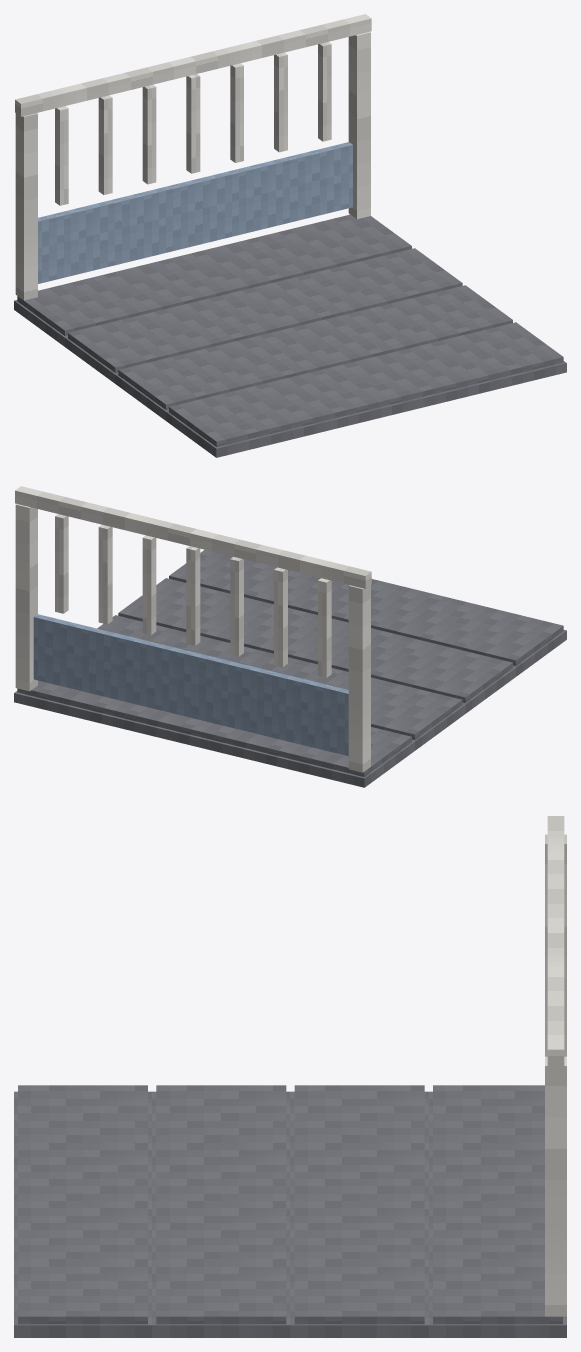
File: pixel-modern-apartments-balcony-floor-bay-8c546da4__29801.glb
3 views of the same model, one above another, from view 1: azimuth 30°, elevation 25°; view 2: azimuth 150°, elevation 25°; view 3: azimuth 270°, elevation 25° (orthographic). The views are drawn at different scales.
Visible parts, largest first — view 1: balcony-floor-bay; view 2: balcony-floor-bay; view 3: balcony-floor-bay.
Part boxes in pixels (x1,y1,x2,y2): balcony-floor-bay: (14,14,566,457); balcony-floor-bay: (14,486,566,787); balcony-floor-bay: (14,816,566,1337).
Bounding box in the file's own units: 2 × 1.15 × 2.
3 materials, 3 textured.
